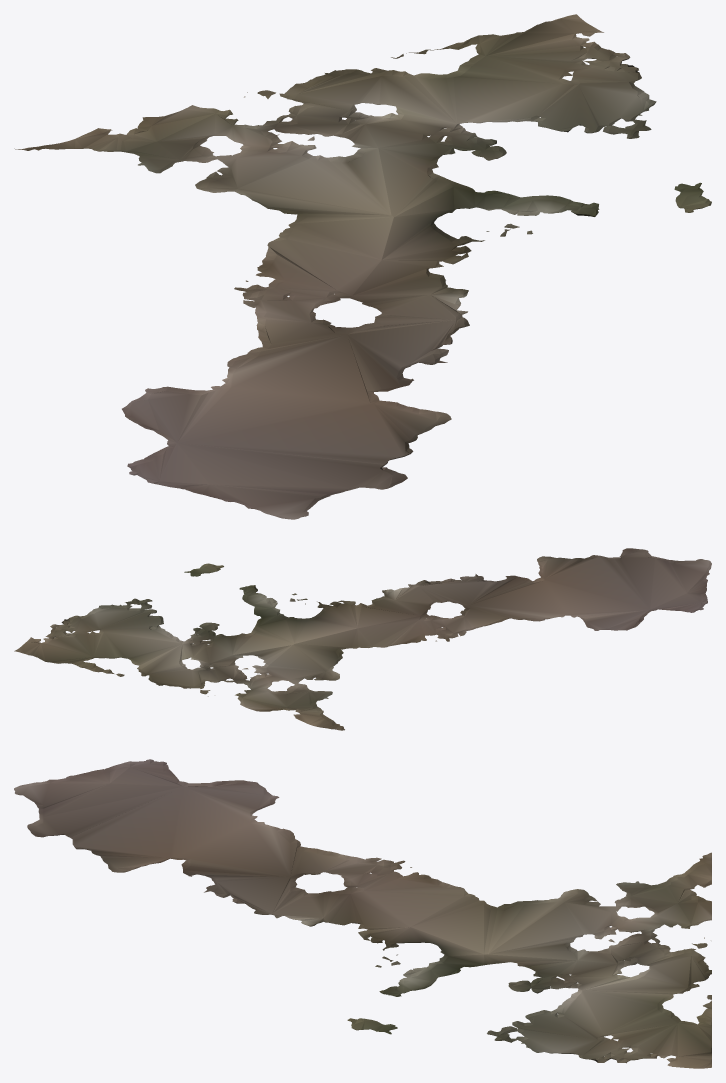
File: coarse.glb
3 renders of one model, top to bottom at view 1: azimuth 30°, elevation 25°; view 2: azimuth 150°, elevation 25°; view 3: azimuth 270°, elevation 25°, orthographic. The views are drawn at different scales.
Bounding box in the file's own units: 0.9609 × 0.0201 × 0.9257.
